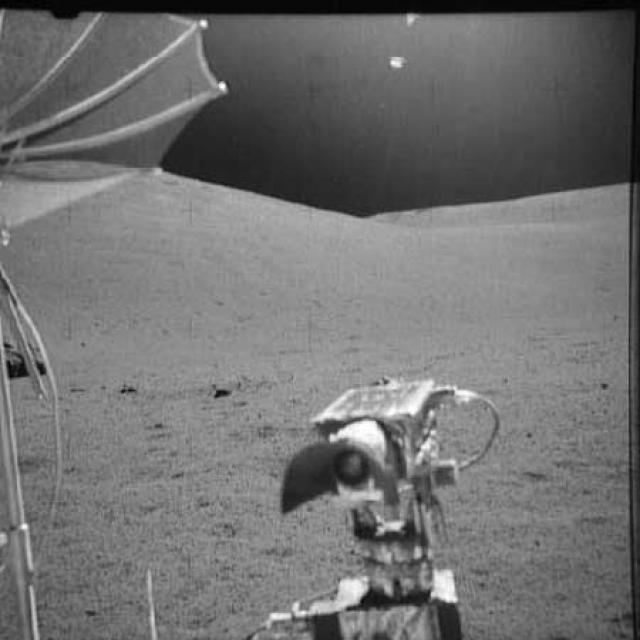artifact: (3, 0, 226, 639), (237, 366, 503, 638)
crater: (96, 356, 265, 411)
